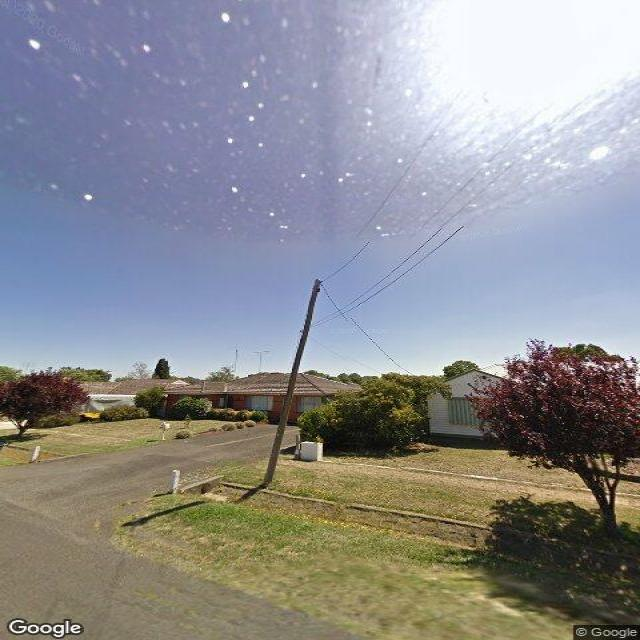timber-pole: (262, 279, 324, 485)
